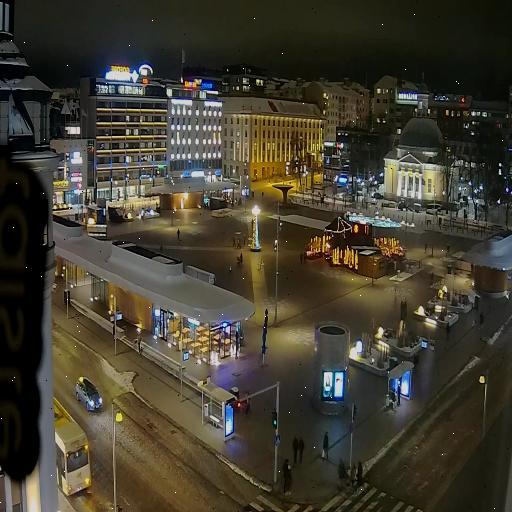Bus: (54, 397, 91, 495)
Car: (75, 376, 103, 411)
